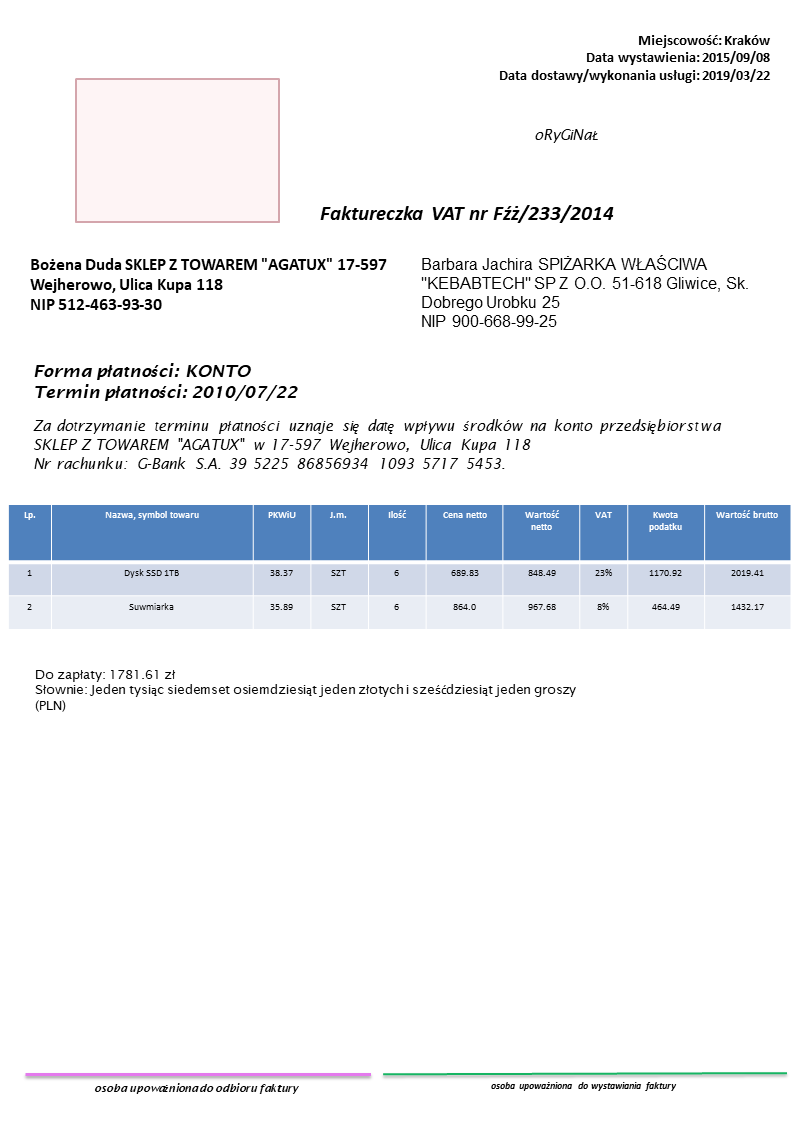Table: (6, 502, 793, 630)
TextBox: (31, 415, 723, 473), (30, 665, 576, 715), (419, 254, 750, 331), (25, 254, 389, 313), (496, 30, 776, 87), (31, 360, 301, 404), (316, 202, 617, 225), (93, 1080, 300, 1096), (487, 1079, 678, 1093), (532, 123, 600, 145)
